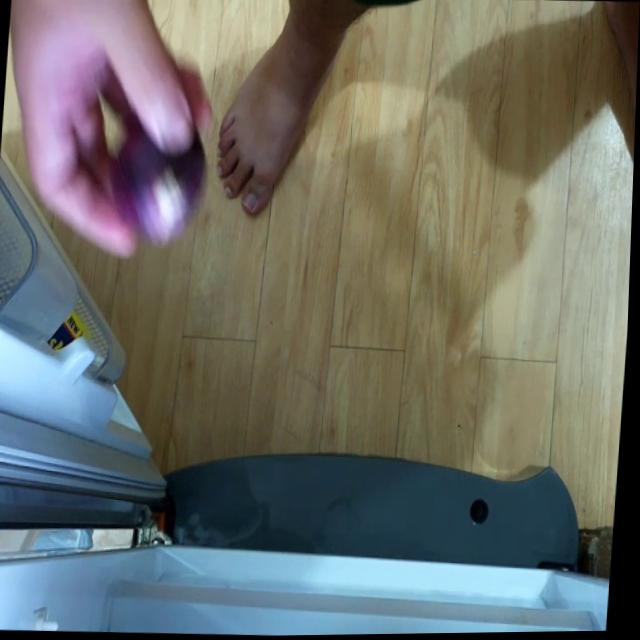onion: (109, 118, 209, 248)
